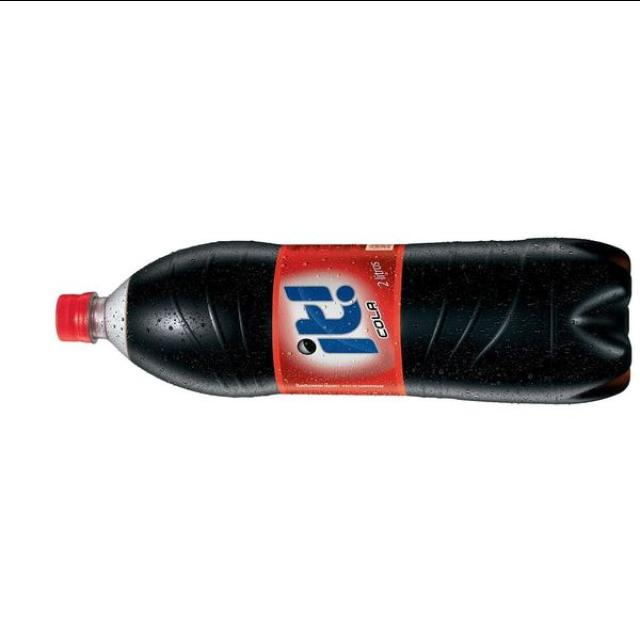bottle: (56, 238, 631, 402)
